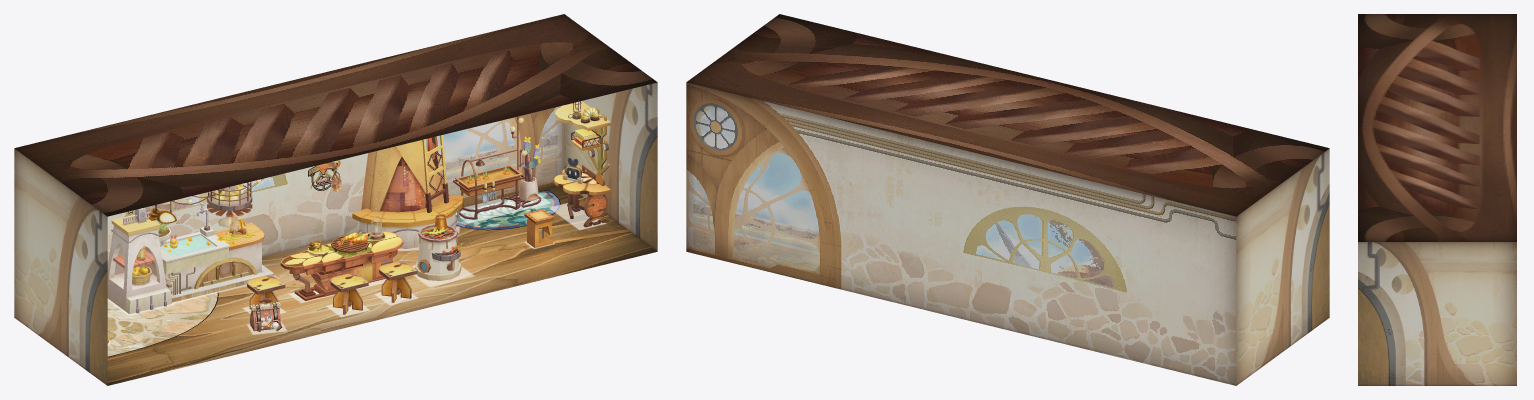
Rendered from rabbitTown.glb.
The picture shows the model from 3 angles, left to right: view 1: azimuth 30°, elevation 25°; view 2: azimuth 150°, elevation 25°; view 3: azimuth 270°, elevation 25°; orthographic projection. The views are drawn at different scales.
Parts seen in each view (by area): view 1: ROOM_room, ROOM_floor, furni_rabbitTown_servingTable_01, furni_rabbitTown_treeCabinet_01, furni_rabbitTown_stoneCarpet_01, furni_rabbitTown_diningTable_02, furni_rabbitTown_servingTable_02, furni_rabbitTown_desk_02, furni_rabbitTown_planter_01, furni_rabbitTown_desk_01, furni_rabbitTown_absorbentCarpet_01, furni_rabbitTown_oven_02 (+13 smaller); view 2: ROOM_room, ROOM_LDoor; view 3: ROOM_room, ROOM_RDoor.
Boxes of the visible parts, x1,y1,x2,y2 form: ROOM_room: [14, 14, 657, 385]; ROOM_floor: [107, 185, 657, 385]; furni_rabbitTown_servingTable_01: [107, 207, 273, 314]; furni_rabbitTown_treeCabinet_01: [352, 135, 463, 248]; furni_rabbitTown_stoneCarpet_01: [107, 292, 218, 356]; furni_rabbitTown_diningTable_02: [280, 215, 403, 294]; furni_rabbitTown_servingTable_02: [111, 202, 261, 293]; furni_rabbitTown_desk_02: [564, 101, 609, 217]; furni_rabbitTown_planter_01: [453, 160, 541, 219]; furni_rabbitTown_desk_01: [554, 101, 610, 227]; furni_rabbitTown_absorbentCarpet_01: [456, 190, 560, 230]; furni_rabbitTown_oven_02: [417, 224, 463, 274]; ROOM_room: [686, 14, 1329, 385]; ROOM_LDoor: [1297, 251, 1315, 341]; ROOM_room: [1358, 14, 1516, 385]; ROOM_RDoor: [1381, 320, 1413, 385].
Bounding box in the file's own units: 7.5 × 2.2 × 2.24.
6 materials, 6 textured.
